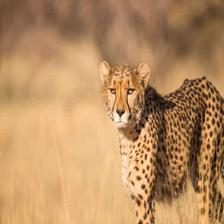Cheetah: (99, 57, 224, 222)
